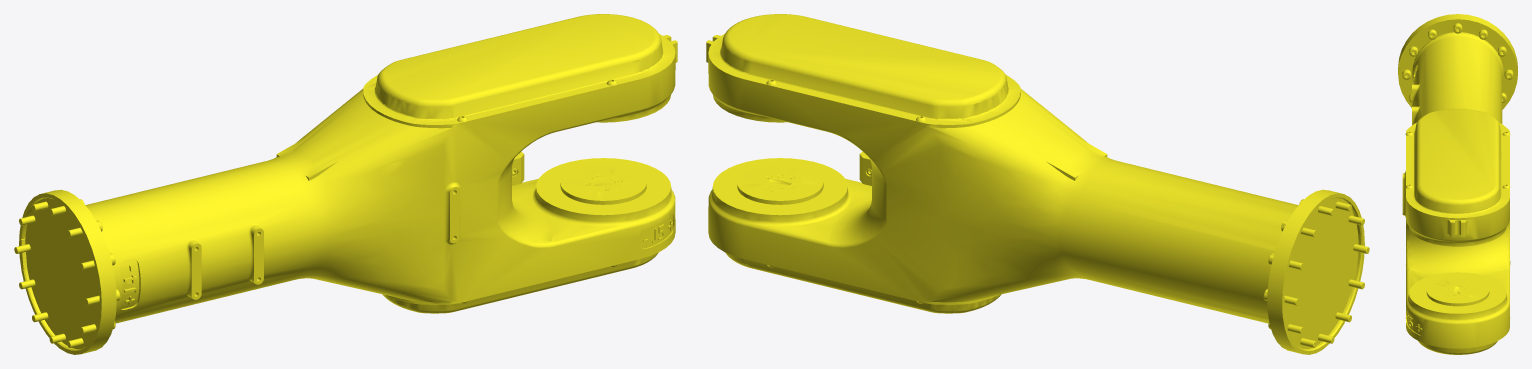
3 renders of one model, left to right at view 1: azimuth 30°, elevation 25°; view 2: azimuth 150°, elevation 25°; view 3: azimuth 270°, elevation 25°, orthographic. The views are drawn at different scales.
Visible parts, largest first — view 1: /Link4/Link4_002-mesh/0; view 2: /Link4/Link4_002-mesh/0; view 3: /Link4/Link4_002-mesh/0.
Part boxes in pixels (x1,y1,x2,y2): /Link4/Link4_002-mesh/0: (14,14,677,354); /Link4/Link4_002-mesh/0: (706,14,1369,354); /Link4/Link4_002-mesh/0: (1398,14,1517,354).
Size of the model in its own units: 0.4994 by 0.164 by 0.115.
